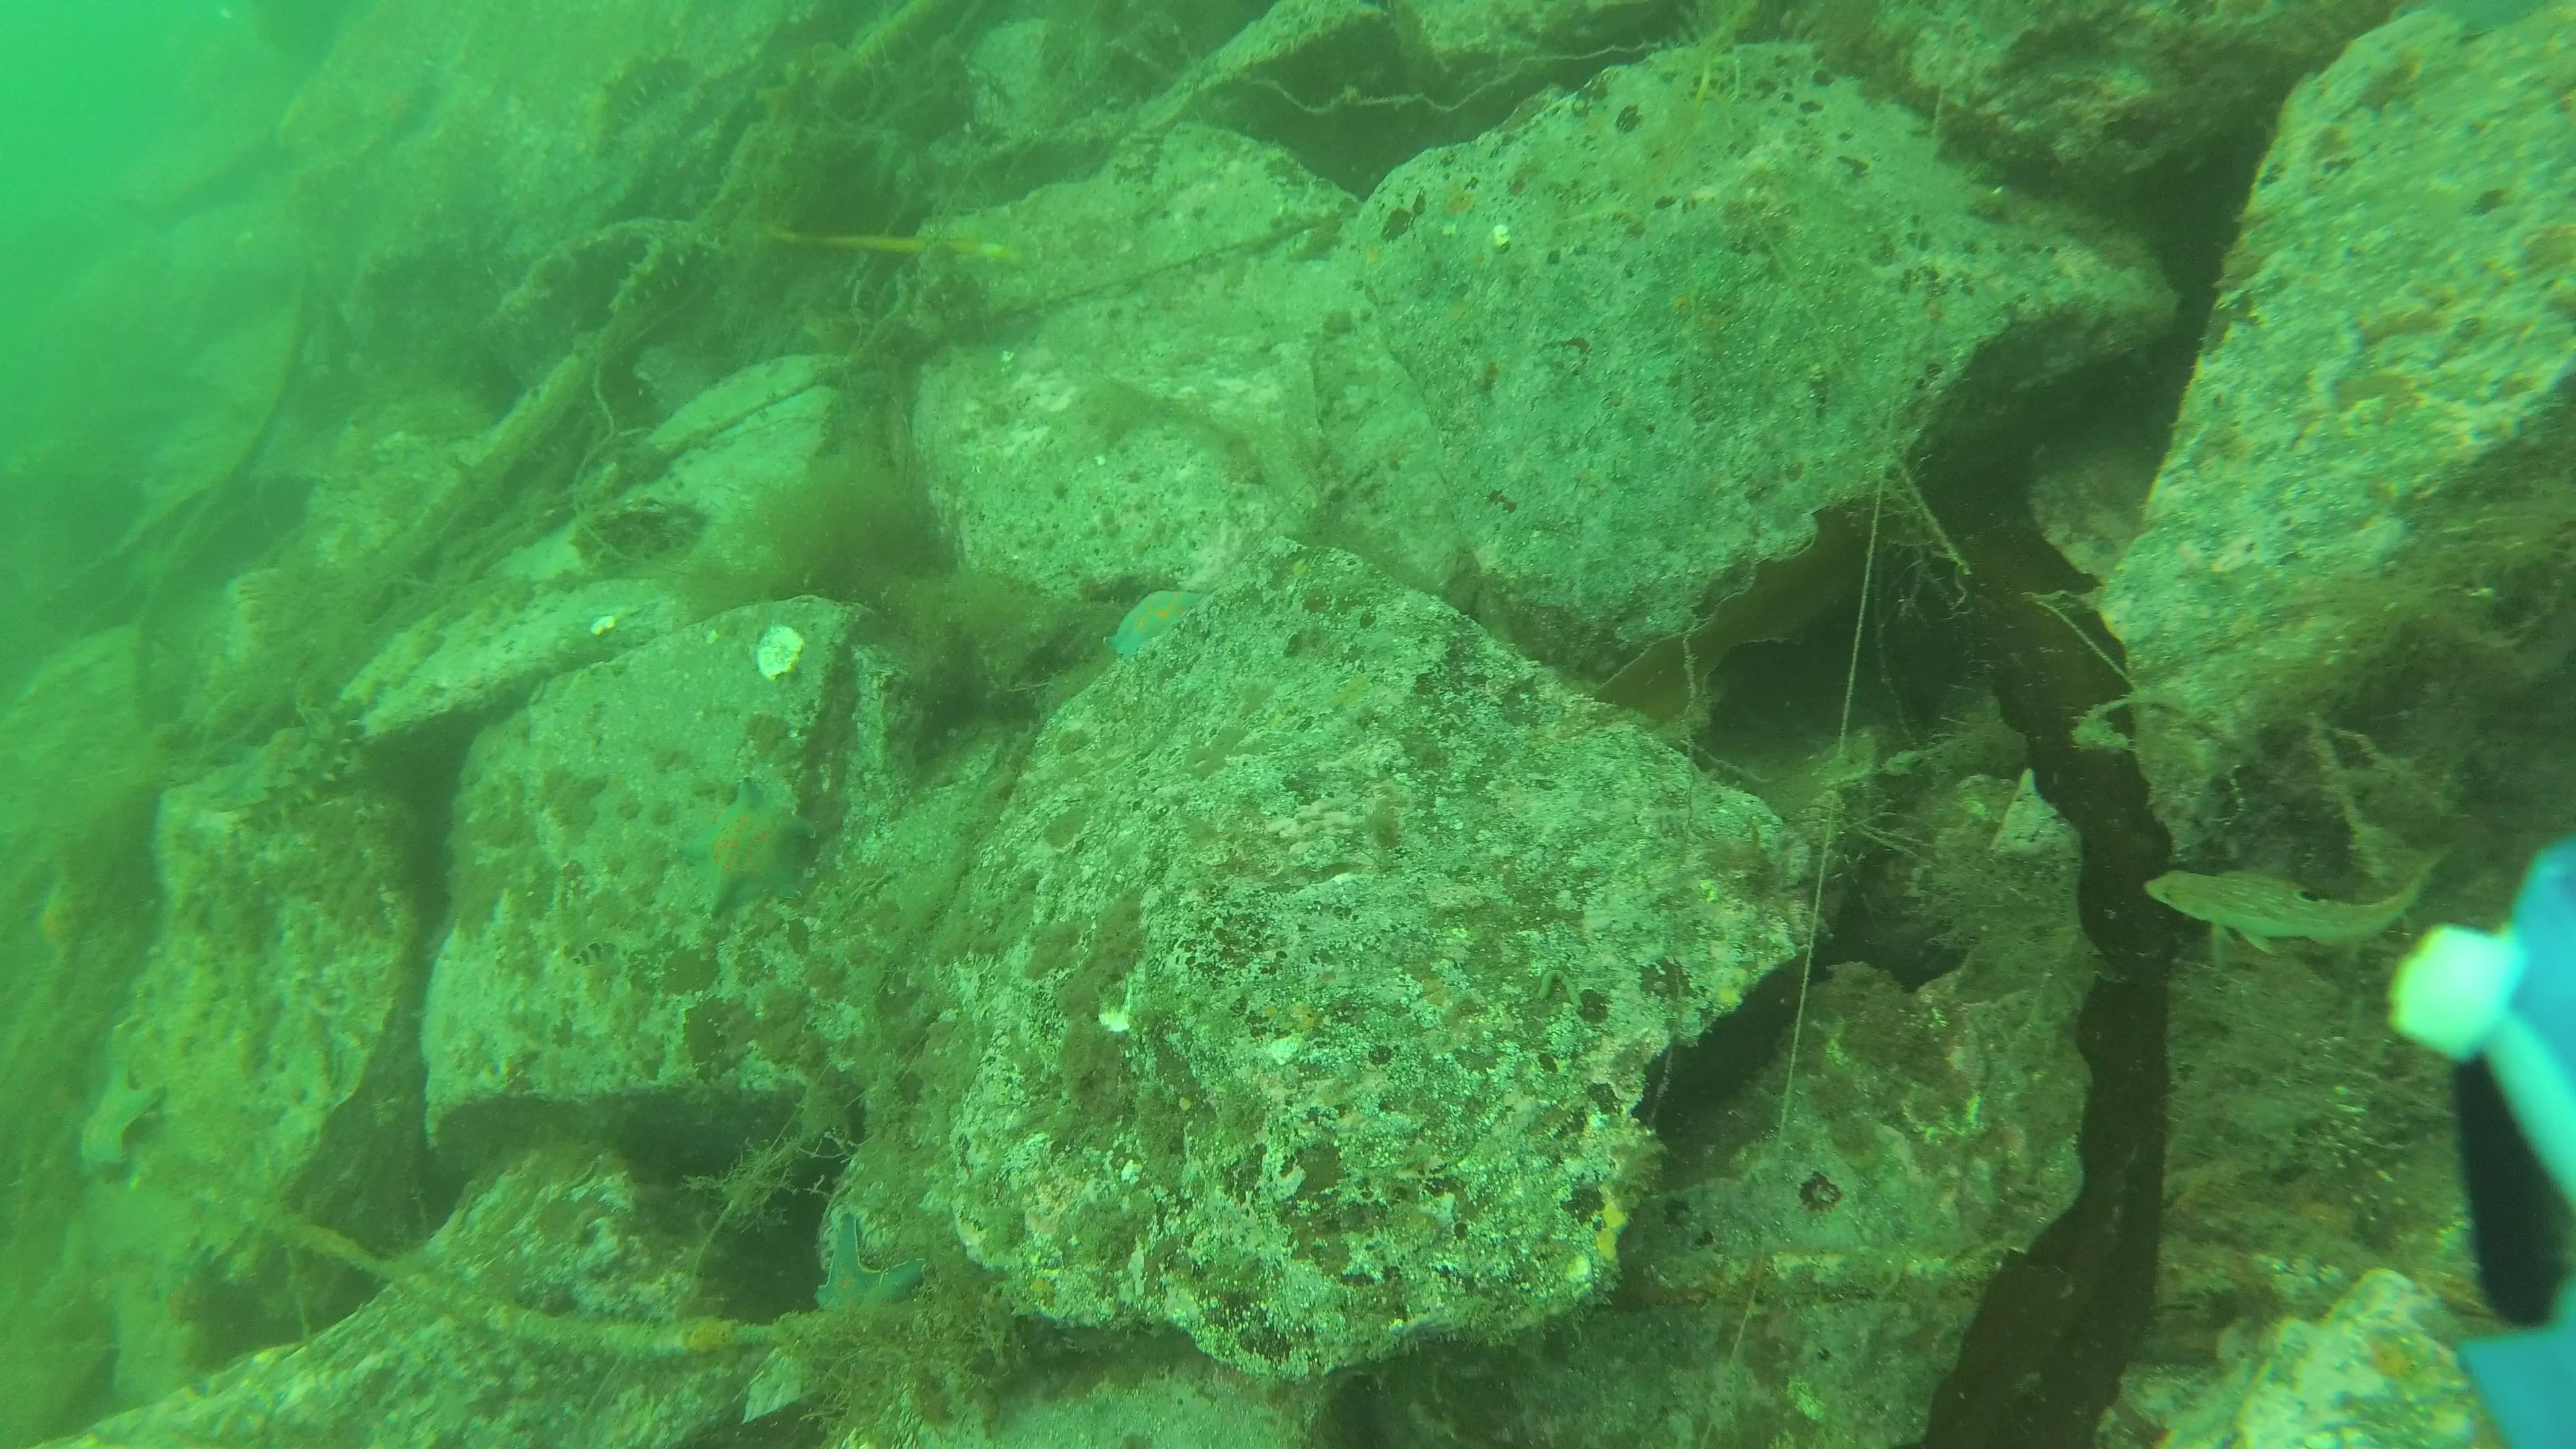holothurian: (239, 678, 352, 855)
starfish: (683, 764, 839, 915), (805, 1212, 934, 1323), (1102, 580, 1208, 665)
